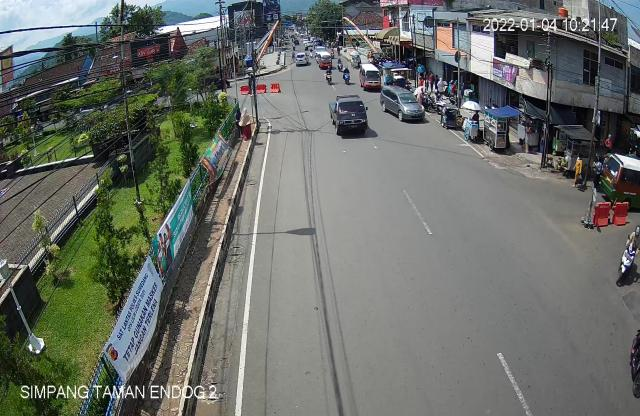Mobil: (598, 149, 640, 209), (377, 85, 426, 126), (326, 94, 373, 135)
Motor: (617, 226, 640, 288)
